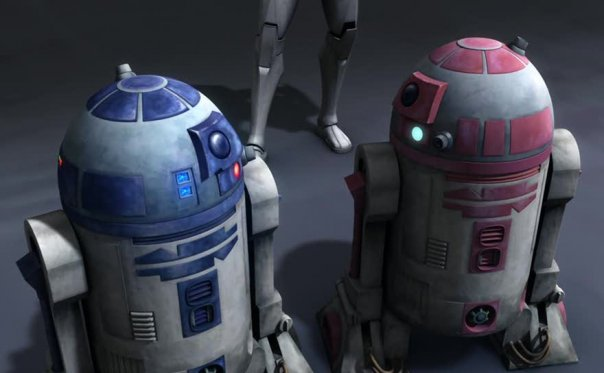r2d2: (16, 62, 313, 373)
